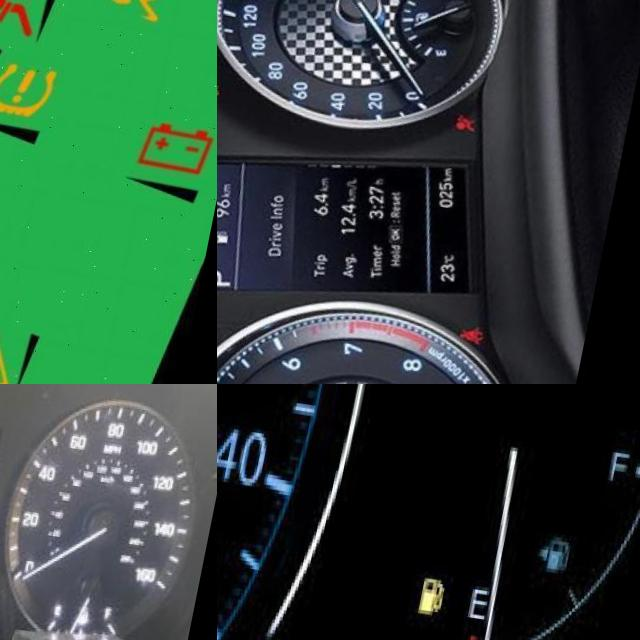Seat Belt: (471, 311, 502, 333)
